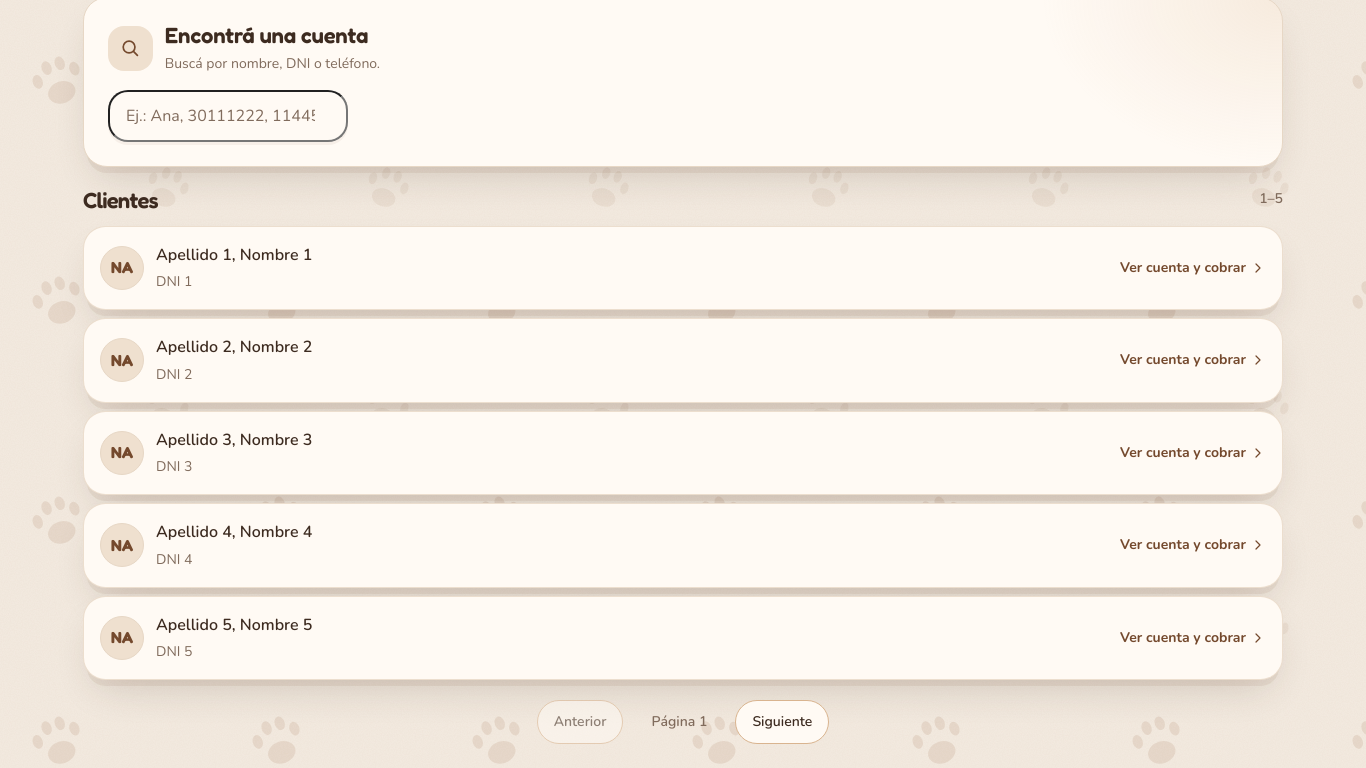
it: rutas de cobros › carga y pagina el listado inicial de clientes
The width and height of the screenshot is (1366, 768).
(page scrolled)
Expected: the link "NA Apellido 1, Nombre 1 DNI 1 Ver cuenta y cobrar" is shown, x1=83 y1=226 x2=1283 y2=310
Expected: the text "1–5" is shown, x1=1259 y1=188 x2=1283 y2=214
Step 1. Click the button "Siguiente" → click(782, 722), box x1=735 y1=700 x2=829 y2=744
(page scrolled)
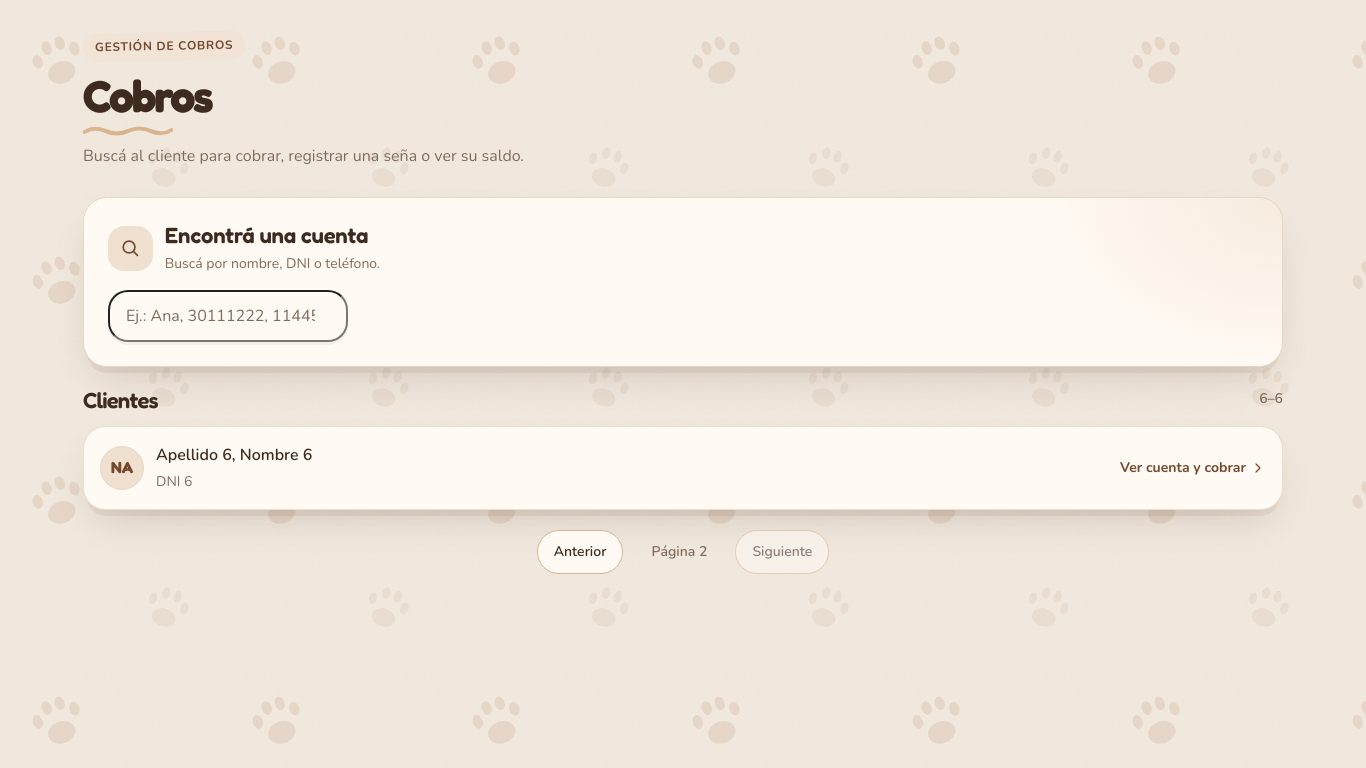
Expected: the link "NA Apellido 6, Nombre 6 DNI 6 Ver cuenta y cobrar" is shown, x1=83 y1=426 x2=1283 y2=510
Expected: the text "Página 2" is shown, x1=651 y1=542 x2=707 y2=561
Expected: the button "Siguiente" is disabled, x1=735 y1=530 x2=829 y2=574
